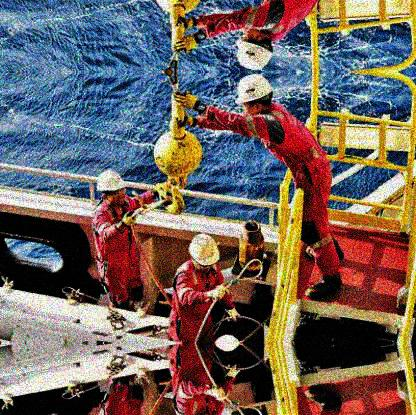helmet: (235, 73, 275, 115), (236, 29, 274, 72), (187, 232, 221, 273), (96, 169, 131, 205)
